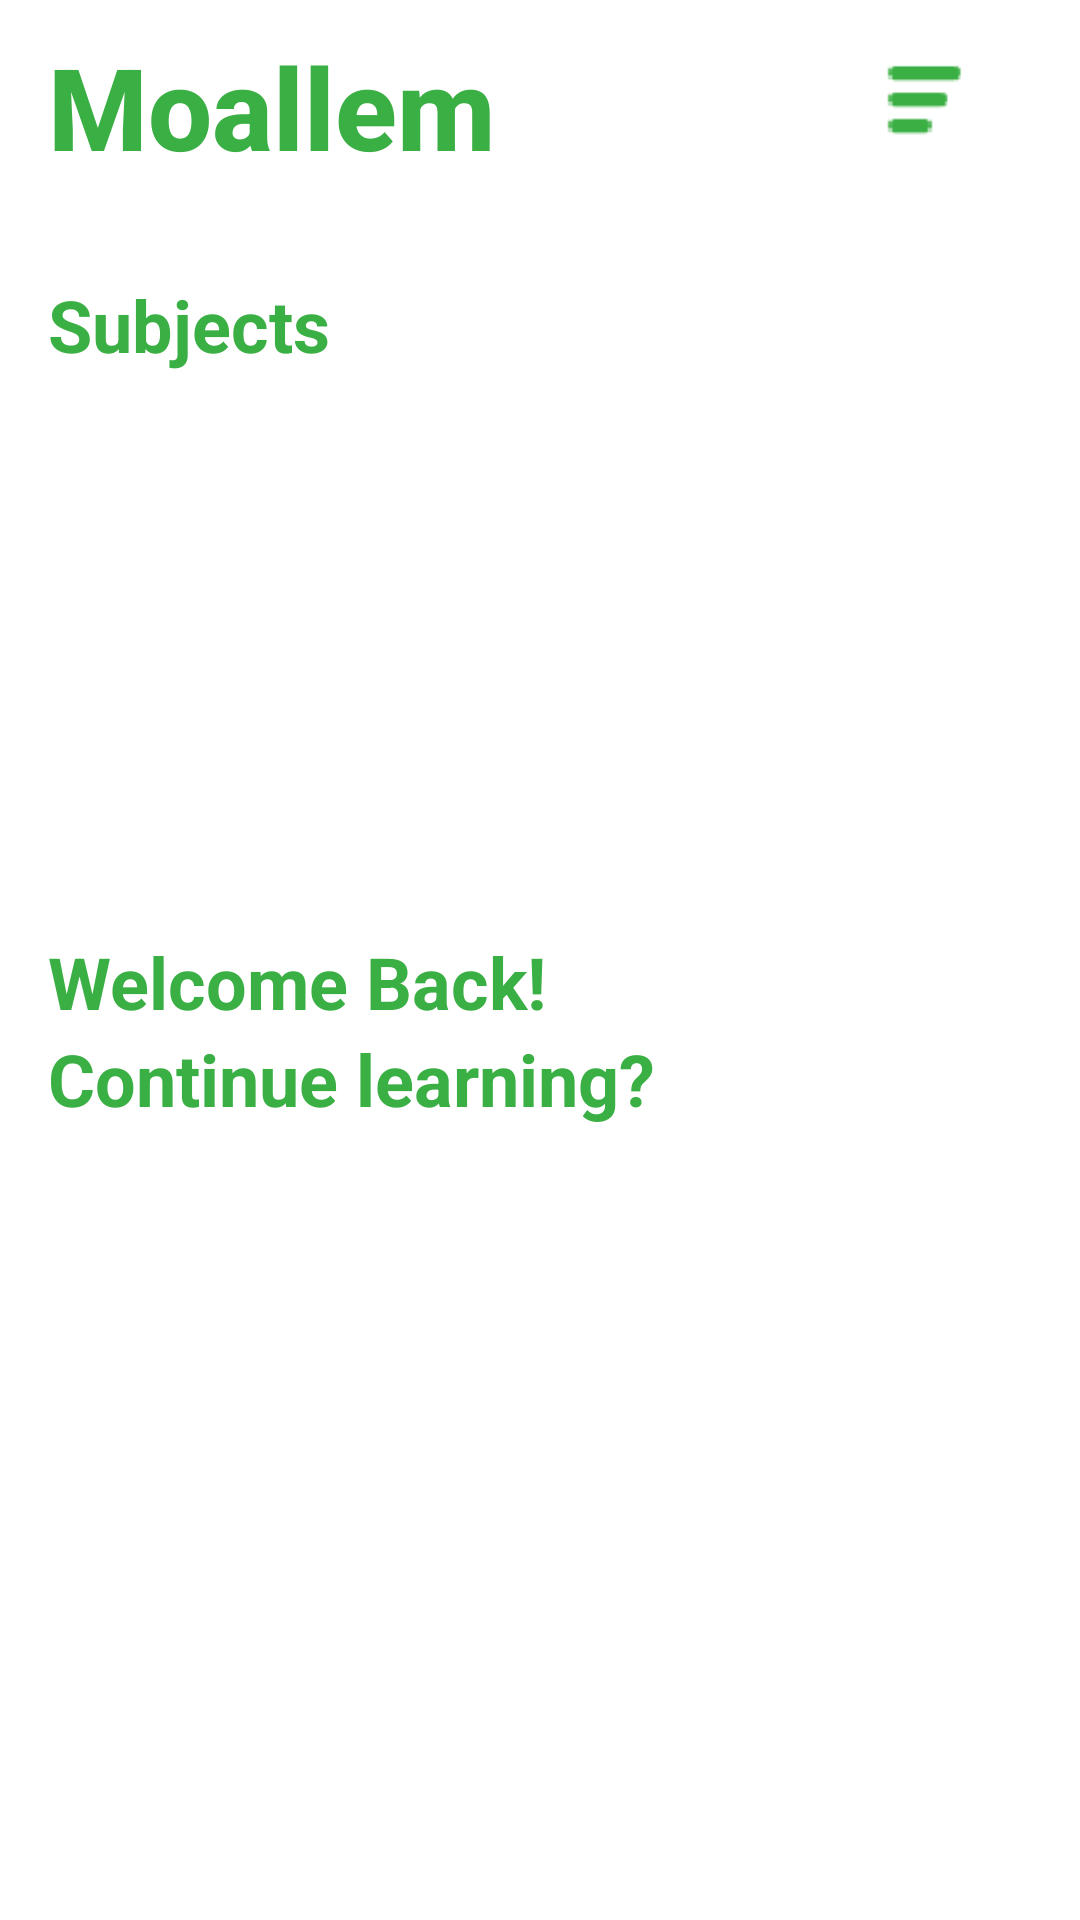

Point at icon controls on the screen. Image size 1080×1920, points as point (x, y).
burger: point (924, 100)
